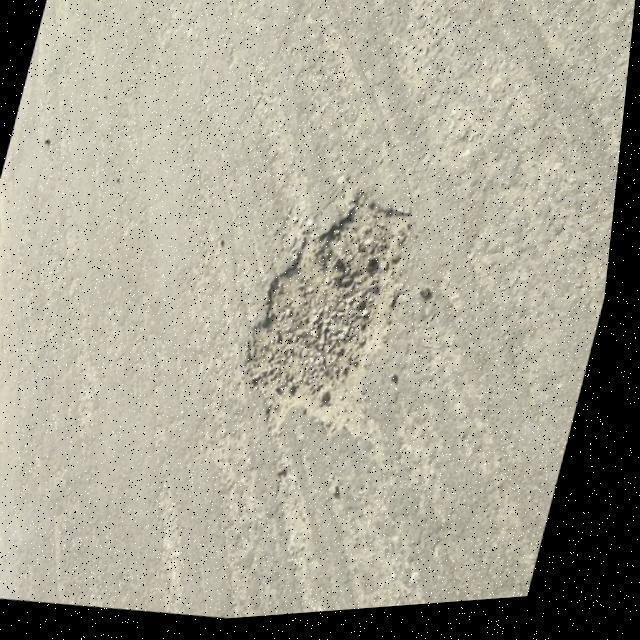pothole: (224, 179, 438, 461)
